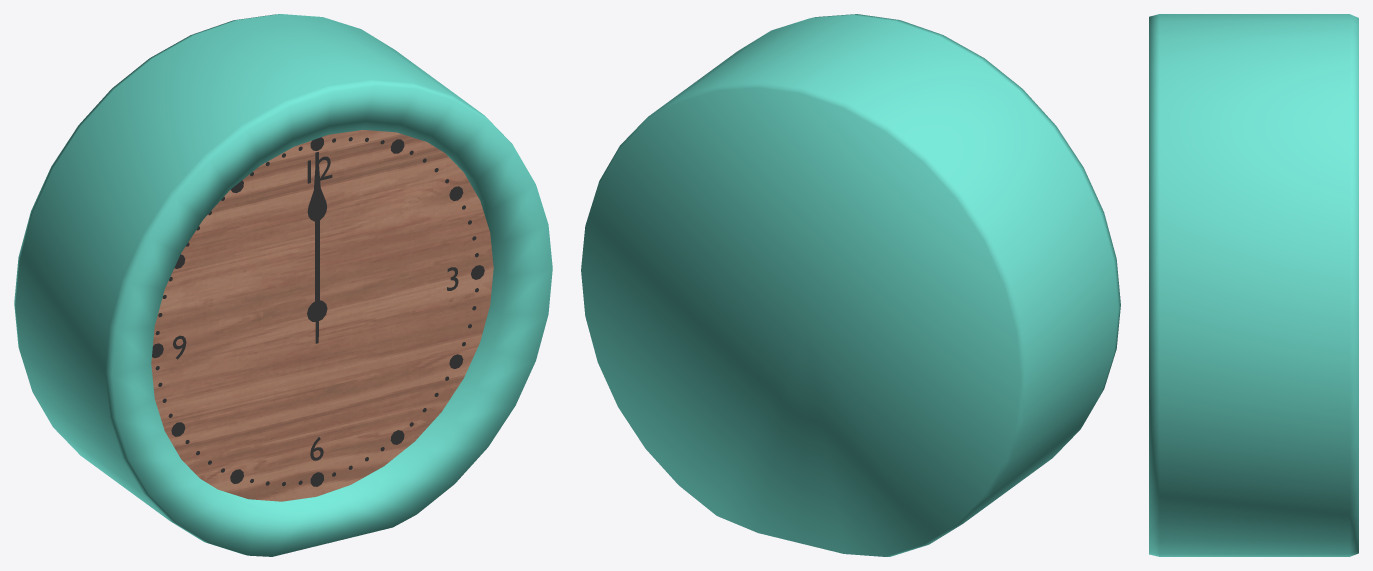
The model's file is basic_table_clock_ver1.0.fbx.
3 views of the same model, side by side, from view 1: azimuth 30°, elevation 25°; view 2: azimuth 150°, elevation 25°; view 3: azimuth 270°, elevation 25° (orthographic). The views are drawn at different scales.
Visible parts, largest first — view 1: alarm_clock, Hour; view 2: alarm_clock; view 3: alarm_clock.
Boxes of the visible parts, x1,y1,x2,y2 form: alarm_clock: [14, 14, 552, 556]; Hour: [307, 179, 326, 319]; alarm_clock: [581, 14, 1120, 556]; alarm_clock: [1149, 14, 1358, 556].
Size of the model in its own units: 0.1165 by 0.1139 by 0.045.
